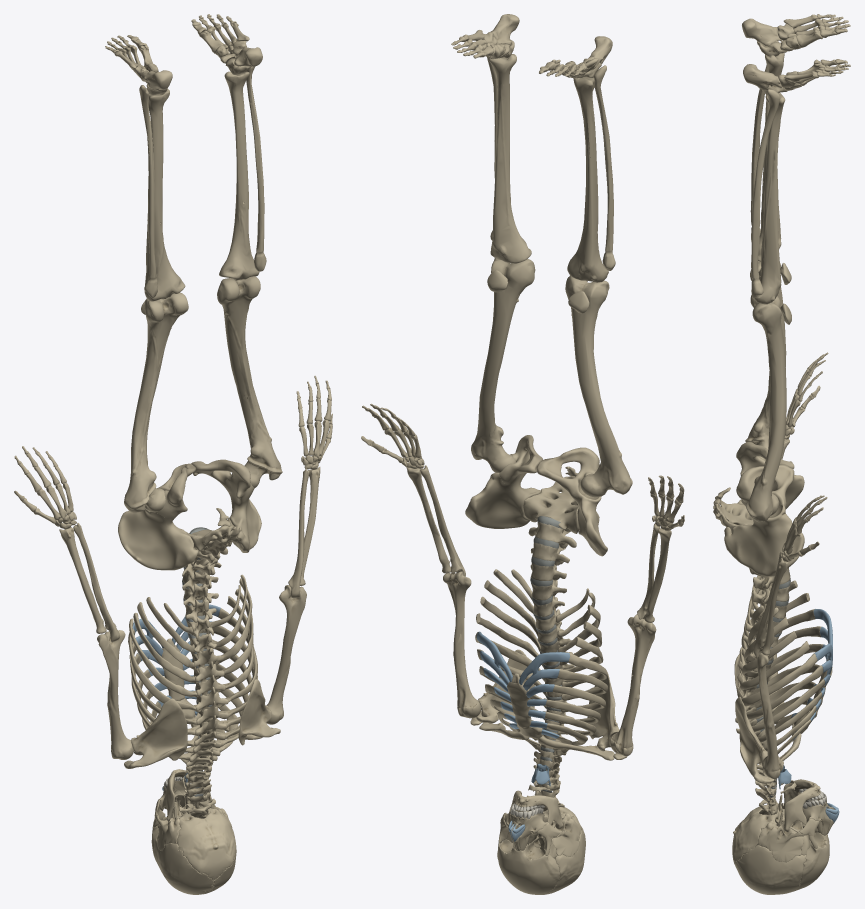
Rendered from skeletal.glb.
The picture shows the model from 3 angles, left to right: view 1: azimuth 30°, elevation 25°; view 2: azimuth 150°, elevation 25°; view 3: azimuth 270°, elevation 25°; orthographic projection.
Visible parts, largest first — view 1: FJ3365, FJ3259, HRA_ilium_compact_bone_r, FJ3282, FJ3309, FJ3387, FJ3384, FJ3262, FJ3368, FJ3380, FJ3366, FJ3260 (+13 smaller); view 2: FJ3365, FJ3259, FJ3282, FJ3387, HRA_ilium_compact_bone_l, FJ3200, FJ3368, FJ3262, HRA_sacrum, FJ3366, HRA_ilium_compact_bone_r, FJ3384 (+12 smaller); view 3: FJ3259, HRA_ilium_compact_bone_l, FJ3282, FJ3274, FJ3260, FJ3262, FJ3279, FJ3309, FJ3281, FJ3289, FJ3200, FJ3365 (+24 smaller).
Part boxes in pixels (left/top/right/bottom): FJ3365: left=124, top=292, right=188, bottom=512; FJ3259: left=217, top=276, right=282, bottom=487; HRA_ilium_compact_bone_r: left=118, top=508, right=198, bottom=570; FJ3282: left=219, top=71, right=259, bottom=280; FJ3309: left=176, top=806, right=235, bottom=880; FJ3387: left=144, top=89, right=185, bottom=301; FJ3384: left=124, top=698, right=187, bottom=768; FJ3262: left=266, top=585, right=306, bottom=724; FJ3368: left=97, top=630, right=134, bottom=759; FJ3380: left=153, top=838, right=214, bottom=894; FJ3366: left=139, top=85, right=157, bottom=297; FJ3260: left=246, top=66, right=266, bottom=271; FJ3365: left=565, top=275, right=632, bottom=497; FJ3259: left=471, top=258, right=535, bottom=472; FJ3282: left=488, top=54, right=531, bottom=263; FJ3387: left=567, top=77, right=608, bottom=282; HRA_ilium_compact_bone_l: left=465, top=472, right=540, bottom=528; FJ3200: left=497, top=839, right=559, bottom=894; FJ3368: left=610, top=614, right=656, bottom=756; FJ3262: left=443, top=571, right=481, bottom=718; HRA_sacrum: left=523, top=476, right=579, bottom=533; FJ3366: left=594, top=65, right=615, bottom=270; HRA_ilium_compact_bone_r: left=576, top=491, right=607, bottom=556; FJ3384: left=587, top=670, right=627, bottom=759; FJ3259: left=746, top=295, right=786, bottom=522; HRA_ilium_compact_bone_l: left=724, top=504, right=804, bottom=576; FJ3282: left=755, top=92, right=785, bottom=304; FJ3274: left=734, top=845, right=806, bottom=894; FJ3260: left=751, top=89, right=780, bottom=298; FJ3262: left=757, top=648, right=783, bottom=779; FJ3279: left=735, top=696, right=783, bottom=783; FJ3309: left=732, top=804, right=784, bottom=862; FJ3281: left=758, top=812, right=805, bottom=862; FJ3289: left=783, top=779, right=820, bottom=831; FJ3200: left=797, top=832, right=829, bottom=890; FJ3365: left=745, top=261, right=786, bottom=460.
Bounding box in the file's own units: 649 × 1637 × 240.
